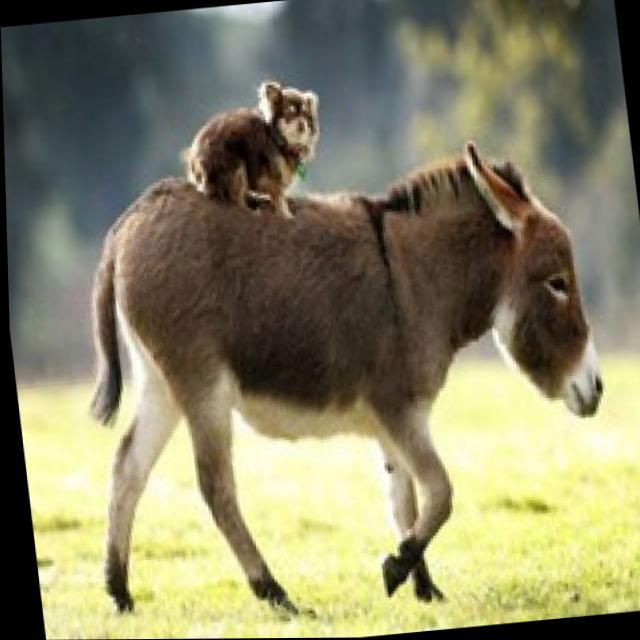Donkey: (35, 108, 640, 640)
